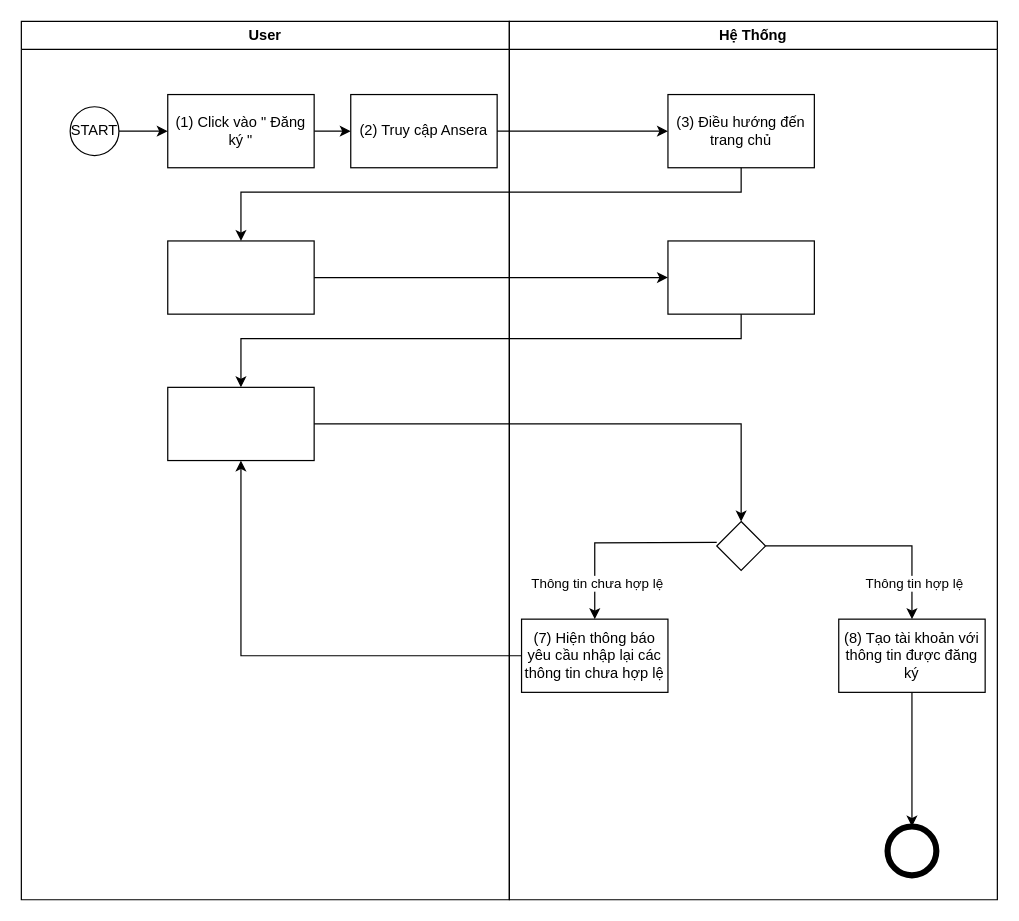
This 1019x921 diagram has some shape labels left out. Here are the shapes that lost their labels. From the top down, the centre of each, then its label:
At (240,277): "(4) Click vào tham gia miễn phí".
At (740,277): "(5) Điều hướng đến trang đăng kí bằng username".
At (240,423): "(6) Điền thông tin đăng ký".
At (911,850): "END".
